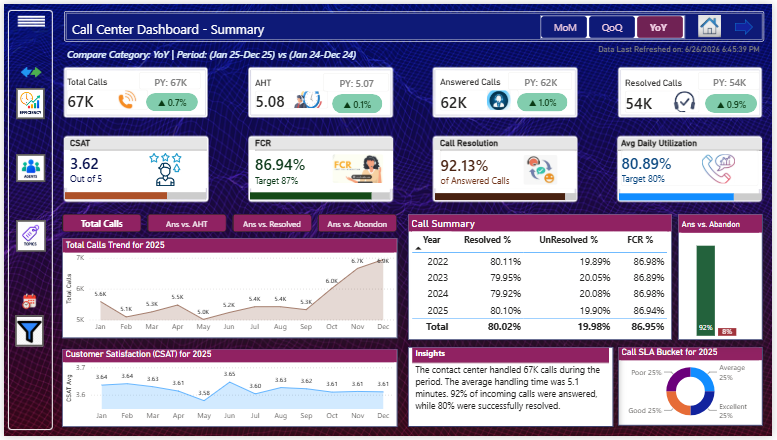

What the dashboard file says about the page in this screenshot:
{"tool":"powerbi","page":{"name":"Summary","canvas":[1280,720],"ordinal":0},"visuals":[{"type":"group","id":"g1","title":"Title","box":[100,11.4,1167.1,51.4],"z":0},{"type":"shape","box":[100,11.4,1167.1,51.4],"z":0,"group":"g1"},{"type":"cardVisual","title":"Total Calls","fields":{"Data":["DAX_Measures.Calls Current Total Value"]},"box":[100.5,121.7,145.5,60.7],"z":0,"group":"g2"},{"type":"cardVisual","title":"Answered Calls","fields":{"Data":["DAX_Measures.Ans_Calls_Curr_Val_Formatted"]},"box":[721.6,121.9,141.9,61.7],"z":0,"group":"g4"},{"type":"cardVisual","title":"Resolved Calls","fields":{"Data":["DAX_Measures.Res_Calls_Curr_Val_Formatted"]},"box":[1030,122.2,146.1,63.6],"z":0,"group":"g5"},{"type":"cardVisual","title":"AHT","fields":{"Data":["DAX_Measures.AHT"]},"box":[413.9,123.4,147.3,63.6],"z":0,"group":"g3"},{"type":"image","box":[21.4,141.1,44.4,49.2],"z":0,"group":"g12"},{"type":"cardVisual","title":"CSAT","fields":{"Data":["DAX_Measures.CSAT Period Value"]},"box":[100,222.9,238.3,83.3],"z":0,"group":"g6"},{"type":"cardVisual","title":"Call Resolution","fields":{"Data":["DAX_Measures.Ans_Call_Curr_Period_Value"]},"box":[717.3,222.9,238.3,84.2],"z":0,"group":"g8"},{"type":"cardVisual","title":"Avg Daily Utilization","fields":{"Data":["DAX_Measures.Avg_Utliz_Curr_Value"]},"box":[1022.7,222.9,240,84.5],"z":0,"group":"g9"},{"type":"cardVisual","title":"FCR","fields":{"Data":["DAX_Measures.FCR Period Value"]},"box":[407.4,223,240,84.2],"z":0,"group":"g7"},{"type":"image","box":[20.1,251.5,45.5,44],"z":0,"group":"g11"},{"type":"image","box":[21.3,361.7,46.3,50.1],"z":0,"group":"g10"},{"type":"image","box":[19.8,521.7,45,49],"z":0,"group":"g13"},{"type":"advancedSlicerVisual","title":"✔ Period","fields":{"Values":["Period Selector.Period"]},"box":[893.3,18.3,241.7,40],"z":1000},{"type":"textbox","box":[113,26.1,516.8,35.5],"z":1000,"group":"g1"},{"type":"cardVisual","fields":{"Data":["DAX_Measures.Calls Value vs"]},"box":[226.3,112.9,103.1,29.3],"z":1000,"group":"g2"},{"type":"cardVisual","fields":{"Data":["DAX_Measures.Ans Call Value C vs P"]},"box":[840.4,112.9,107.5,30],"z":1000,"group":"g4"},{"type":"cardVisual","fields":{"Data":["DAX_Measures.Res Call Value C vs P"]},"box":[1156.2,112.9,103.5,30.7],"z":1000,"group":"g5"},{"type":"cardVisual","fields":{"Data":["DAX_Measures.AHT_Mins_Prev_Formatted"]},"box":[531.4,114.3,110,31.2],"z":1000,"group":"g3"},{"type":"actionButton","box":[20.5,140,48,52],"z":1000,"group":"g12"},{"type":"actionButton","box":[19.2,250,49.2,46.7],"z":1000,"group":"g11"},{"type":"barChart","fields":{"Y":["DAX_Measures.CSAT","DAX_Measures.CSAT Remaining"]},"box":[96.7,284.6,245,61.7],"z":1000,"group":"g6"},{"type":"barChart","fields":{"Y":["DAX_Measures.FCR %","DAX_Measures.FCR % Remaining"]},"box":[404.4,285.2,243.3,62.3],"z":1000,"group":"g7"},{"type":"barChart","fields":{"Y":["DAX_Measures.Answered Calls %","DAX_Measures.Ans Calls % Remaining"]},"box":[713.7,285.8,245.7,61.4],"z":1000,"group":"g8"},{"type":"barChart","fields":{"Y":["DAX_Measures.Agent Avg Daily Utilize  %","DAX_Measures.Avg Daily Utilize % Remaining"]},"box":[1020,286.2,246.7,62.3],"z":1000,"group":"g9"},{"type":"actionButton","box":[20.3,360,50.5,53.3],"z":1000,"group":"g10"},{"type":"actionButton","box":[18.8,518.8,48.1,52.5],"z":1000,"group":"g13"},{"type":"group","id":"g2","title":"Calls","box":[100.5,112.9,233.3,70],"z":2000},{"type":"shape","box":[237.6,147.4,86.6,30.3],"z":2000,"group":"g2"},{"type":"shape","box":[855.3,148,84.4,30.8],"z":2000,"group":"g4"},{"type":"shape","box":[1167.6,149,86.9,31.8],"z":2000,"group":"g5"},{"type":"shape","box":[547.8,149.8,84.3,32.4],"z":2000,"group":"g3"},{"type":"group","id":"g3","title":"AHT","box":[413.9,114.3,227.6,72.7],"z":3000},{"type":"cardVisual","fields":{"Data":["DAX_Measures.Calls % vs with Indicator"]},"box":[229.2,147.4,104.6,30.3],"z":3000,"group":"g2"},{"type":"cardVisual","fields":{"Data":["DAX_Measures.Ans Call % C v P Indicator"]},"box":[847.1,148,102,30.8],"z":3000,"group":"g4"},{"type":"cardVisual","fields":{"Data":["DAX_Measures.Res Call % C v P Indicator"]},"box":[1159.2,149,105,31.8],"z":3000,"group":"g5"},{"type":"cardVisual","fields":{"Data":["DAX_Measures.AHT % C vs P Indicator"]},"box":[539.6,149.8,101.9,32.4],"z":3000,"group":"g3"},{"type":"group","id":"g4","title":"AnsCall","box":[721.6,112.9,227.5,70.7],"z":4000},{"type":"group","id":"g5","title":"ResCall","box":[1030,112.9,234.3,74.3],"z":5000},{"type":"cardVisual","fields":{"Data":["DAX_Measures.Period Label"]},"box":[105,66.7,765,30],"z":6000},{"type":"tableEx","title":"Call Summary","fields":{"Values":["dim_calendar.Date Hierarchy.Year","DAX_Measures.Resolved Calls %","DAX_Measures.UnResolved Calls %","DAX_Measures.FCR %"]},"box":[673.3,350,440,210],"z":7000},{"type":"donutChart","fields":{"Y":["DAX_Measures.Total Calls"],"Category":["dim_Talk_SLA.SLA"]},"box":[1022.6,572.5,241.4,131.4],"z":8000},{"type":"lineChart","fields":{"Category":["dim_calendar.Date Hierarchy.Date","dim_calendar.Date Hierarchy.Year","dim_calendar.Date Hierarchy.Month_Name"],"Y":["DAX_Measures.CSAT"]},"box":[96.9,575.3,558.6,130],"z":9000},{"type":"group","id":"g6","title":"CSAT","box":[96.7,222.9,245,123.3],"z":10000},{"type":"group","id":"g7","title":"FCR","box":[404.4,223,243.3,124.6],"z":11000},{"type":"group","id":"g8","title":"Resolution","box":[713.7,222.9,245.7,124.3],"z":12000},{"type":"group","id":"g9","title":"Utilization","box":[1020,222.9,247.1,125.7],"z":13000},{"type":"clusteredColumnChart","title":"Ans vs. Abandon","fields":{"Y":["DAX_Measures.Ans_Calls_Curr_Val%","DAX_Measures.Abandon_Calls_Curr_Val%"]},"box":[1123,350,141,210],"z":14000},{"type":"tableEx","title":"Insight","fields":{"Values":["DAX_Measures.Insight_Summary"]},"box":[673.1,571.7,341.7,133.3],"z":15000},{"type":"bookmarkNavigator","box":[96.9,349.6,560,30],"z":16000},{"type":"lineChart","fields":{"Y":["DAX_Measures.Total Calls"],"Category":["dim_calendar.Date Hierarchy.Date","dim_calendar.Date Hierarchy.Year","dim_calendar.Date Hierarchy.Month_Name"]},"box":[96.9,389.6,558.6,167.1],"z":17000},{"type":"group","id":"g10","title":"Topics Button","box":[20.3,360,50,51.2],"z":21000},{"type":"group","id":"g11","title":"Agents Button","box":[19.2,250,50,47.1],"z":22000},{"type":"group","id":"g12","title":"Efficiency Button","box":[20.5,140,47.5,52.5],"z":23000},{"type":"actionButton","box":[9,12,73,39],"z":24000},{"type":"group","id":"g13","title":"Date Icon","box":[18.8,518.8,48.8,52.5],"z":25000},{"type":"image","box":[1155,18.3,41.7,36.7],"z":26000},{"type":"image","box":[22.9,97.1,44.3,34.3],"z":27000},{"type":"image","box":[20,478.6,45.7,34.3],"z":28000},{"type":"actionButton","box":[99,105,241,85],"z":29000},{"type":"actionButton","box":[406.7,105,241.7,85],"z":30000},{"type":"actionButton","box":[715,103.3,241.7,85],"z":31000},{"type":"actionButton","box":[1021.7,105,241.7,85],"z":32000},{"type":"actionButton","box":[406.7,220,241.7,110],"z":33000},{"type":"actionButton","box":[715,220,241,110],"z":34000},{"type":"actionButton","box":[1022.5,219.2,240.8,110],"z":35000},{"type":"actionButton","box":[100,218.3,241.7,110],"z":36000},{"type":"shape","box":[1218.3,25,30,26.7],"z":41000},{"type":"card","fields":{"Values":["DAX_Measures.Data_Last_Refreshed"]},"box":[974.3,64.3,300,22.9],"z":42000}]}

Visuals, with their boxes in screenshot pixels (x1, y1, x2, y2), scaled from the page's 1280x720 canvas onto the 777x440 screenshot:
"Title" group: [61, 7, 769, 38]
shape: [61, 7, 769, 38]
"Total Calls" cardVisual: [61, 74, 149, 111]
"Answered Calls" cardVisual: [438, 74, 524, 112]
"Resolved Calls" cardVisual: [625, 75, 714, 114]
"AHT" cardVisual: [251, 75, 341, 114]
image: [13, 86, 40, 116]
"CSAT" cardVisual: [61, 136, 205, 187]
"Call Resolution" cardVisual: [435, 136, 580, 188]
"Avg Daily Utilization" cardVisual: [621, 136, 766, 188]
"FCR" cardVisual: [247, 136, 393, 188]
image: [12, 154, 40, 181]
image: [13, 221, 41, 252]
image: [12, 319, 39, 349]
"✔ Period" advancedSlicerVisual: [542, 11, 689, 36]
textbox: [69, 16, 382, 38]
cardVisual - DAX_Measures.Calls Value vs: [137, 69, 200, 87]
cardVisual - DAX_Measures.Ans Call Value C vs P: [510, 69, 575, 87]
cardVisual - DAX_Measures.Res Call Value C vs P: [702, 69, 765, 88]
cardVisual - DAX_Measures.AHT_Mins_Prev_Formatted: [323, 70, 389, 89]
actionButton: [12, 86, 42, 117]
actionButton: [12, 153, 42, 181]
barChart - DAX_Measures.CSAT x DAX_Measures.CSAT Remaining: [59, 174, 207, 212]
barChart - DAX_Measures.FCR % x DAX_Measures.FCR % Remaining: [245, 174, 393, 212]
barChart - DAX_Measures.Answered Calls % x DAX_Measures.Ans Calls % Remaining: [433, 175, 582, 212]
barChart - DAX_Measures.Agent Avg Daily Utilize  % x DAX_Measures.Avg Daily Utilize % Remaining: [619, 175, 769, 213]
actionButton: [12, 220, 43, 253]
actionButton: [11, 317, 41, 349]
"Calls" group: [61, 69, 203, 112]
shape: [144, 90, 197, 109]
shape: [519, 90, 570, 109]
shape: [709, 91, 762, 110]
shape: [333, 92, 384, 111]
"AHT" group: [251, 70, 389, 114]
cardVisual - DAX_Measures.Calls % vs with Indicator: [139, 90, 203, 109]
cardVisual - DAX_Measures.Ans Call % C v P Indicator: [514, 90, 576, 109]
cardVisual - DAX_Measures.Res Call % C v P Indicator: [704, 91, 767, 110]
cardVisual - DAX_Measures.AHT % C vs P Indicator: [328, 92, 389, 111]
"AnsCall" group: [438, 69, 576, 112]
"ResCall" group: [625, 69, 767, 114]
cardVisual - DAX_Measures.Period Label: [64, 41, 528, 59]
"Call Summary" tableEx: [409, 214, 676, 342]
donutChart - DAX_Measures.Total Calls x dim_Talk_SLA.SLA: [621, 350, 767, 430]
lineChart - dim_calendar.Date Hierarchy.Date x dim_calendar.Date Hierarchy.Year: [59, 352, 398, 431]
"CSAT" group: [59, 136, 207, 212]
"FCR" group: [245, 136, 393, 212]
"Resolution" group: [433, 136, 582, 212]
"Utilization" group: [619, 136, 769, 213]
"Ans vs. Abandon" clusteredColumnChart: [682, 214, 767, 342]
"Insight" tableEx: [409, 349, 616, 431]
bookmarkNavigator: [59, 214, 399, 232]
lineChart - DAX_Measures.Total Calls x dim_calendar.Date Hierarchy.Date: [59, 238, 398, 340]
"Topics Button" group: [12, 220, 43, 251]
"Agents Button" group: [12, 153, 42, 182]
"Efficiency Button" group: [12, 86, 41, 118]
actionButton: [5, 7, 50, 31]
"Date Icon" group: [11, 317, 41, 349]
image: [701, 11, 726, 34]
image: [14, 59, 41, 80]
image: [12, 292, 40, 313]
actionButton: [60, 64, 206, 116]
actionButton: [247, 64, 394, 116]
actionButton: [434, 63, 581, 115]
actionButton: [620, 64, 767, 116]
actionButton: [247, 134, 394, 202]
actionButton: [434, 134, 580, 202]
actionButton: [621, 134, 767, 201]
actionButton: [61, 133, 207, 201]
shape: [740, 15, 758, 32]
card - DAX_Measures.Data_Last_Refreshed: [591, 39, 774, 53]
